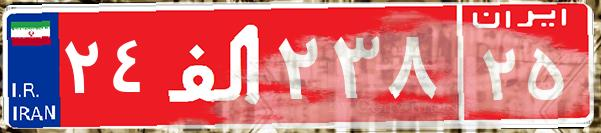2: (273, 28, 330, 110), (57, 26, 110, 107), (475, 38, 525, 113)
3: (330, 28, 385, 110)
4: (110, 28, 158, 105)
5: (525, 38, 570, 115)
8: (385, 28, 445, 110)
الف: (158, 15, 273, 115)
